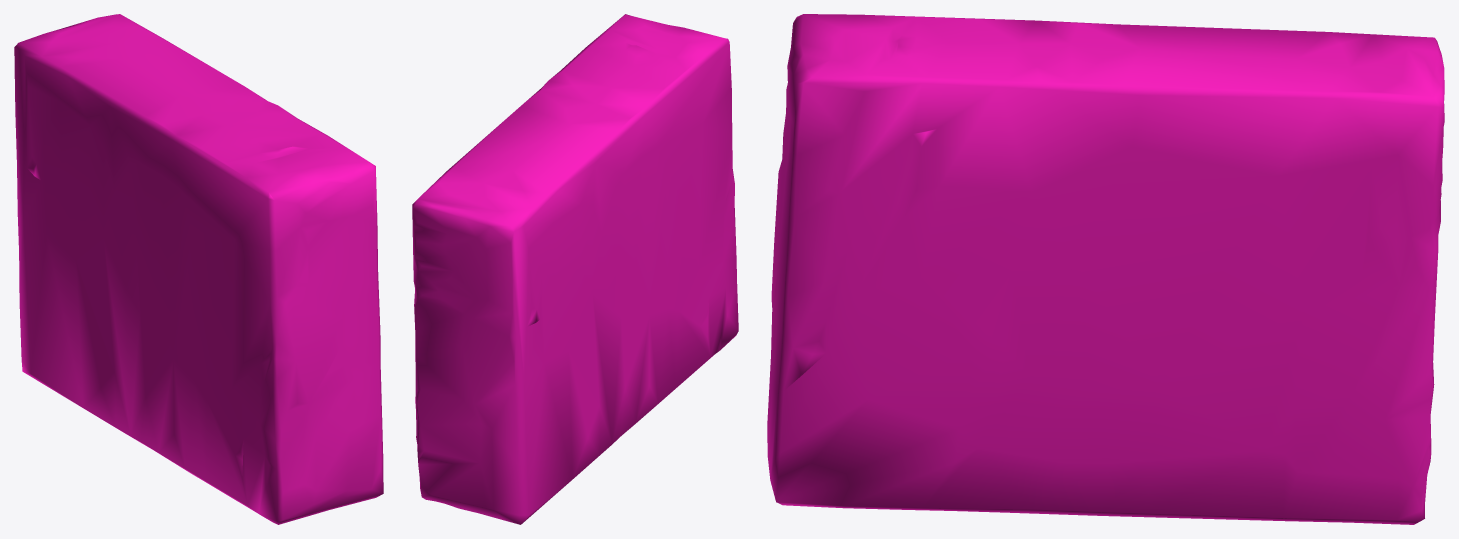
File: rectangularCube3_5.dae
3 renders of one model, left to right at view 1: azimuth 30°, elevation 25°; view 2: azimuth 150°, elevation 25°; view 3: azimuth 270°, elevation 25°, orthographic. The views are drawn at different scales.
Visible parts, largest first — view 1: ChickenSoup_800_tex_019; view 2: ChickenSoup_800_tex_019; view 3: ChickenSoup_800_tex_019.
Part boxes in pixels (box(x1,y1,x2,y2)): ChickenSoup_800_tex_019: box(14, 14, 383, 524); ChickenSoup_800_tex_019: box(412, 14, 738, 524); ChickenSoup_800_tex_019: box(767, 14, 1444, 524).
Size of the model in its own units: 0.0165 by 0.0593 by 0.045.
